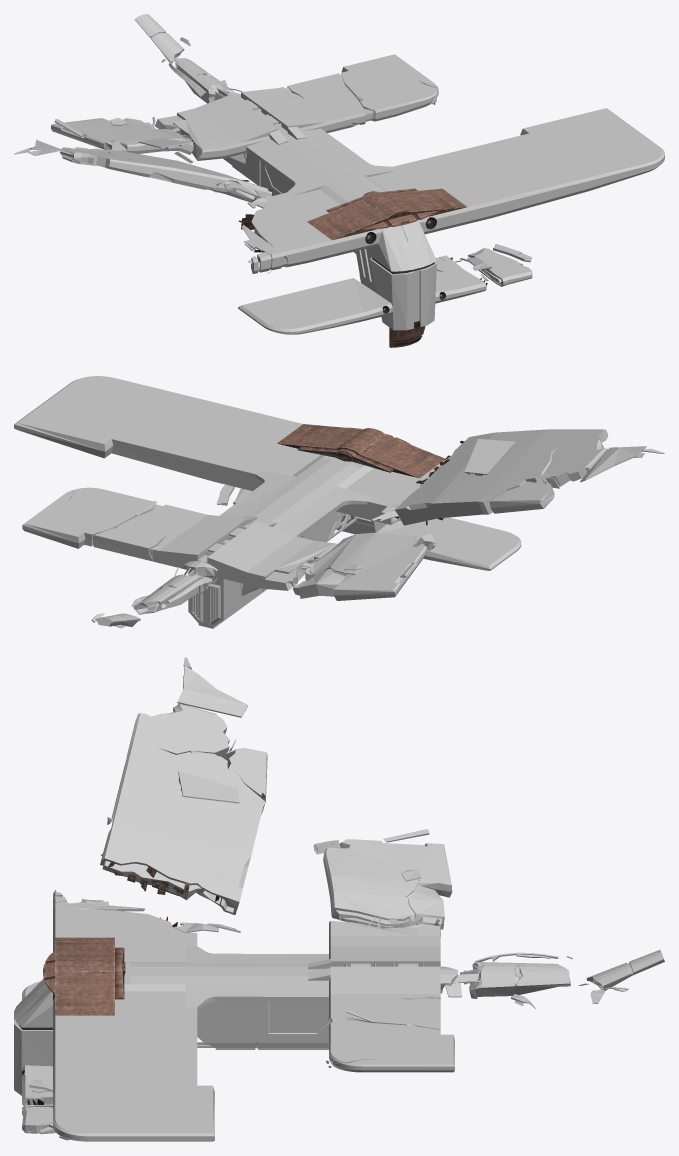
Rendered from spacestation_tradefed_destroyed_hulk_l0.fbx.
3 views of the same model, one above another, from view 1: azimuth 30°, elevation 25°; view 2: azimuth 150°, elevation 25°; view 3: azimuth 270°, elevation 25° (orthographic). The views are drawn at different scales.
Parts seen in each view (by area): view 1: mesh_node; view 2: mesh_node; view 3: mesh_node.
Part boxes in pixels (x1,y1,x2,y2): mesh_node: [14, 14, 664, 347]; mesh_node: [14, 376, 664, 628]; mesh_node: [14, 657, 664, 1141].
Bounding box in the file's own units: 311 × 113 × 246.
